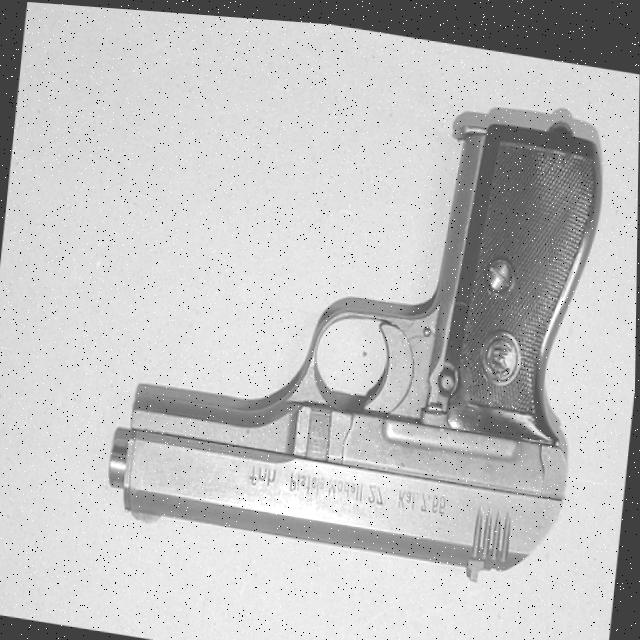pistol: (105, 63, 608, 583)
